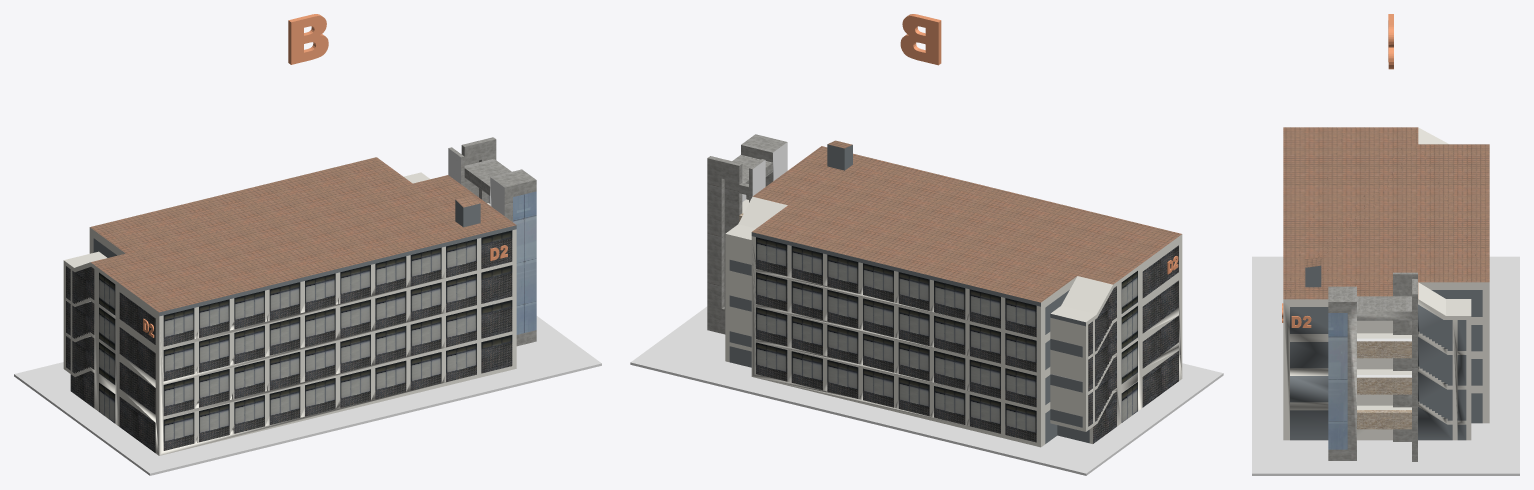
3 views of the same model, side by side, from view 1: azimuth 30°, elevation 25°; view 2: azimuth 150°, elevation 25°; view 3: azimuth 270°, elevation 25° (orthographic). The views are drawn at different scales.
Visible parts, largest first — view 1: Model, Group1, B1; view 2: Model, Group1, B1; view 3: Model, Group1, B1.
Boxes of the visible parts, bbox=[...] form: Model: bbox=[63, 137, 536, 455]; Group1: bbox=[14, 316, 601, 475]; B1: bbox=[288, 14, 328, 64]; Model: bbox=[707, 134, 1182, 447]; Group1: bbox=[630, 306, 1223, 475]; B1: bbox=[900, 14, 941, 65]; Model: bbox=[1283, 127, 1489, 461]; Group1: bbox=[1252, 256, 1519, 475]; B1: bbox=[1388, 14, 1393, 69].
Size of the model in its own units: 68.79 by 51.14 by 35.88.
Materials: 16 (10 with a texture image).
